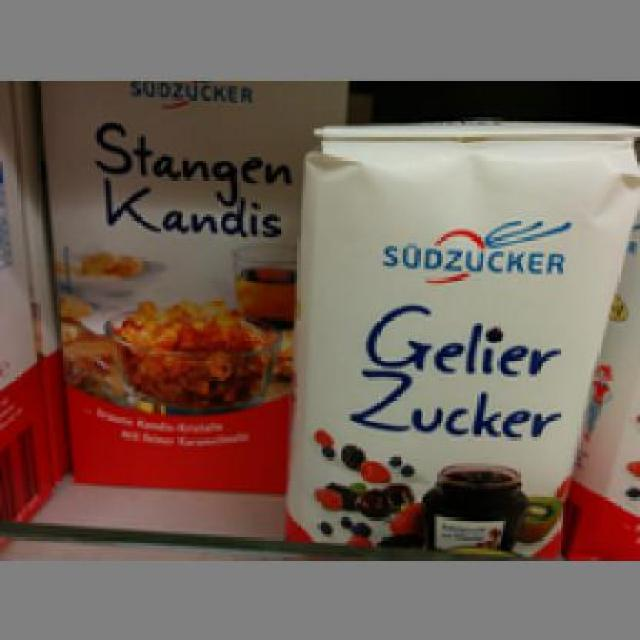Sugar: (282, 110, 638, 546), (33, 77, 350, 492)
